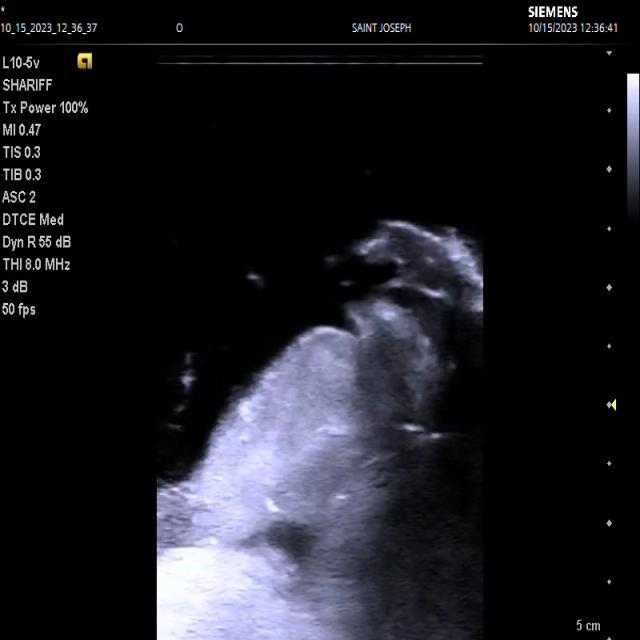tissue: (157, 299, 442, 640), (357, 220, 485, 314)
